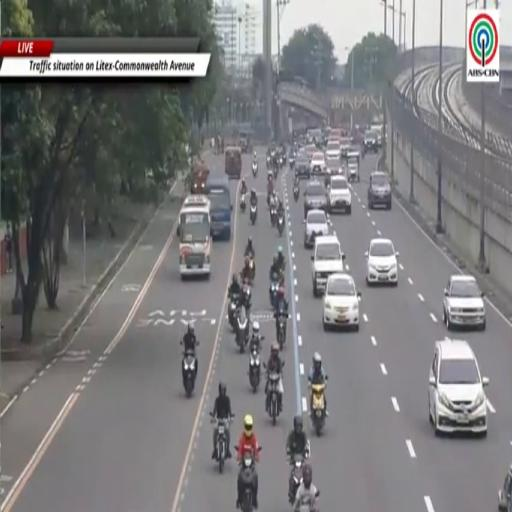bus: (178, 195, 212, 278), (206, 175, 232, 241)
car: (429, 339, 488, 436), (444, 275, 485, 330), (323, 274, 360, 331), (312, 235, 345, 297), (366, 238, 399, 285), (367, 171, 392, 210), (304, 210, 329, 248), (328, 175, 351, 214), (304, 180, 327, 218), (498, 464, 511, 511), (346, 149, 360, 182), (295, 153, 310, 179), (310, 152, 326, 175), (364, 131, 378, 153), (325, 140, 341, 159), (326, 158, 341, 175), (340, 137, 351, 157), (306, 143, 317, 162)
jeepney: (191, 160, 209, 194), (225, 147, 241, 179), (346, 150, 359, 182), (239, 131, 252, 153)
motorcycle: (210, 413, 234, 473), (311, 376, 327, 436), (241, 454, 255, 511), (289, 455, 304, 504), (267, 373, 280, 425), (182, 350, 196, 397), (236, 307, 249, 353), (249, 345, 260, 392), (298, 490, 320, 511), (228, 295, 239, 329), (277, 313, 286, 349), (270, 274, 279, 308), (243, 279, 251, 315), (249, 255, 255, 283), (250, 204, 257, 225), (277, 216, 284, 236), (270, 206, 276, 228), (240, 193, 246, 213), (293, 185, 299, 202), (267, 187, 272, 206), (273, 166, 279, 179), (252, 163, 257, 177), (279, 156, 284, 168), (289, 158, 294, 169), (267, 156, 270, 168)
